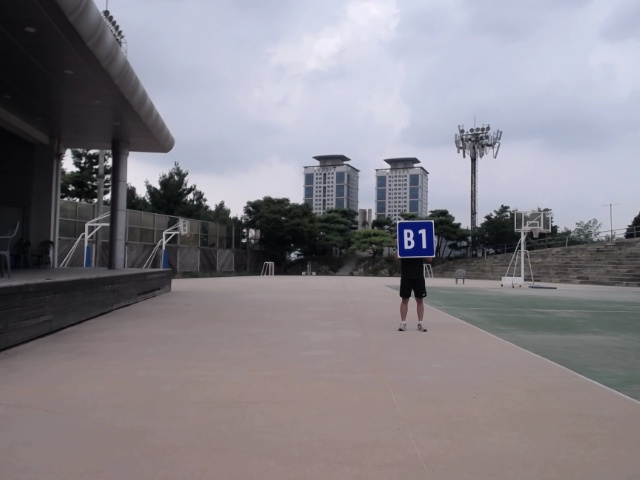delivery_b1: (397, 221, 435, 257)
